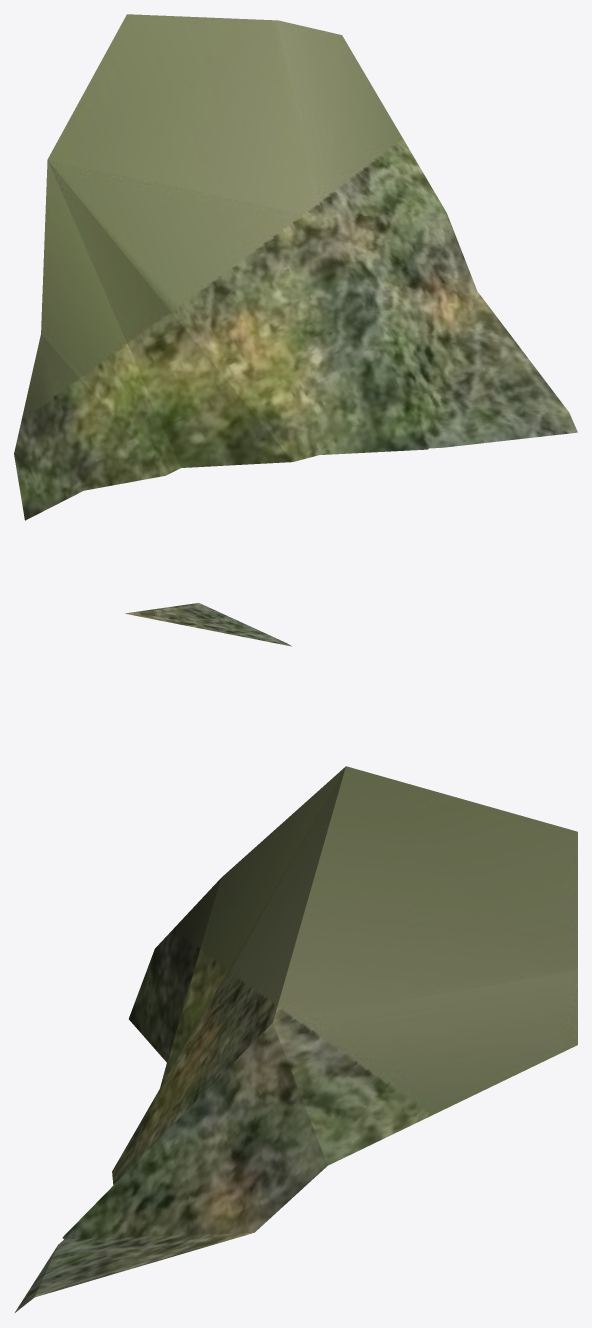
3 renders of one model, top to bottom at view 1: azimuth 30°, elevation 25°; view 2: azimuth 150°, elevation 25°; view 3: azimuth 270°, elevation 25°, orthographic. The views are drawn at different scales.
Bounding box in the file's own units: 5.9 × 3.33 × 4.77.
Materials: 2 (2 with a texture image).
